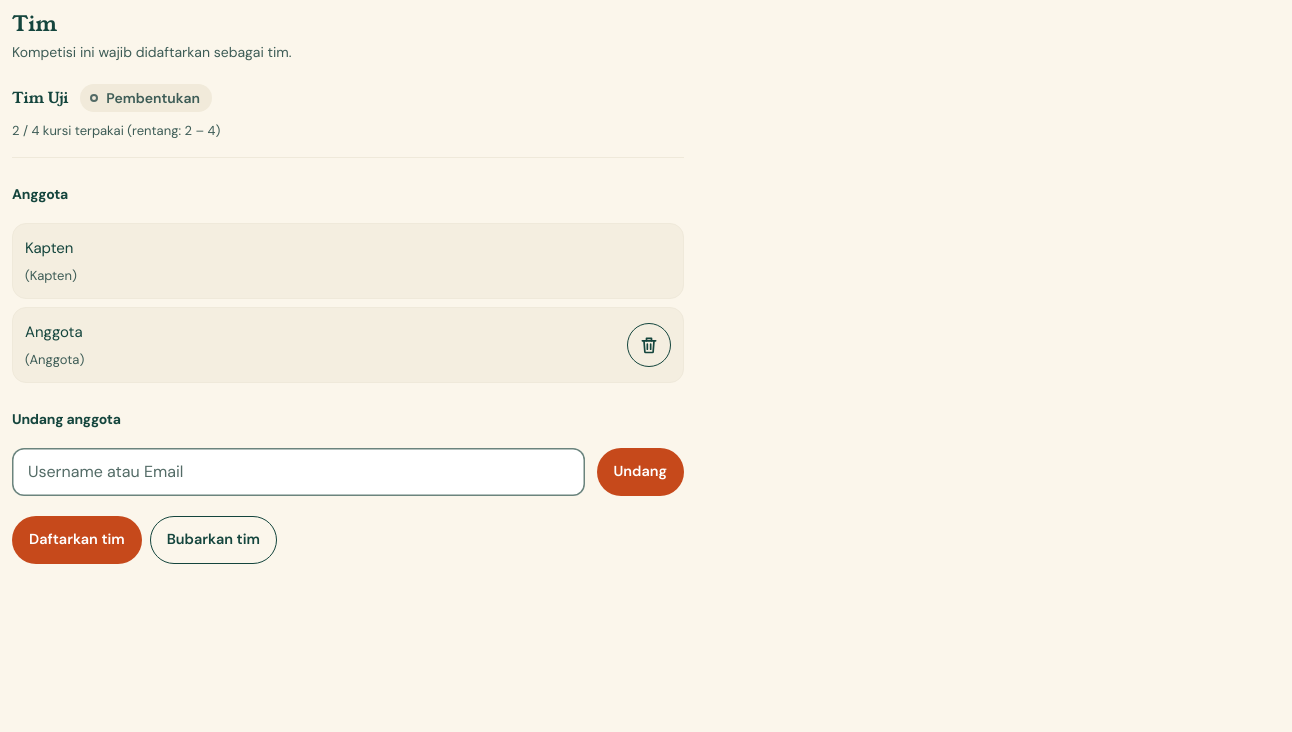
Scenario: the team section's refusals › says the organiser is suspended when the captain registers the team
Click the button "Daftarkan tim" at (77, 540), box [12,516,142,564]
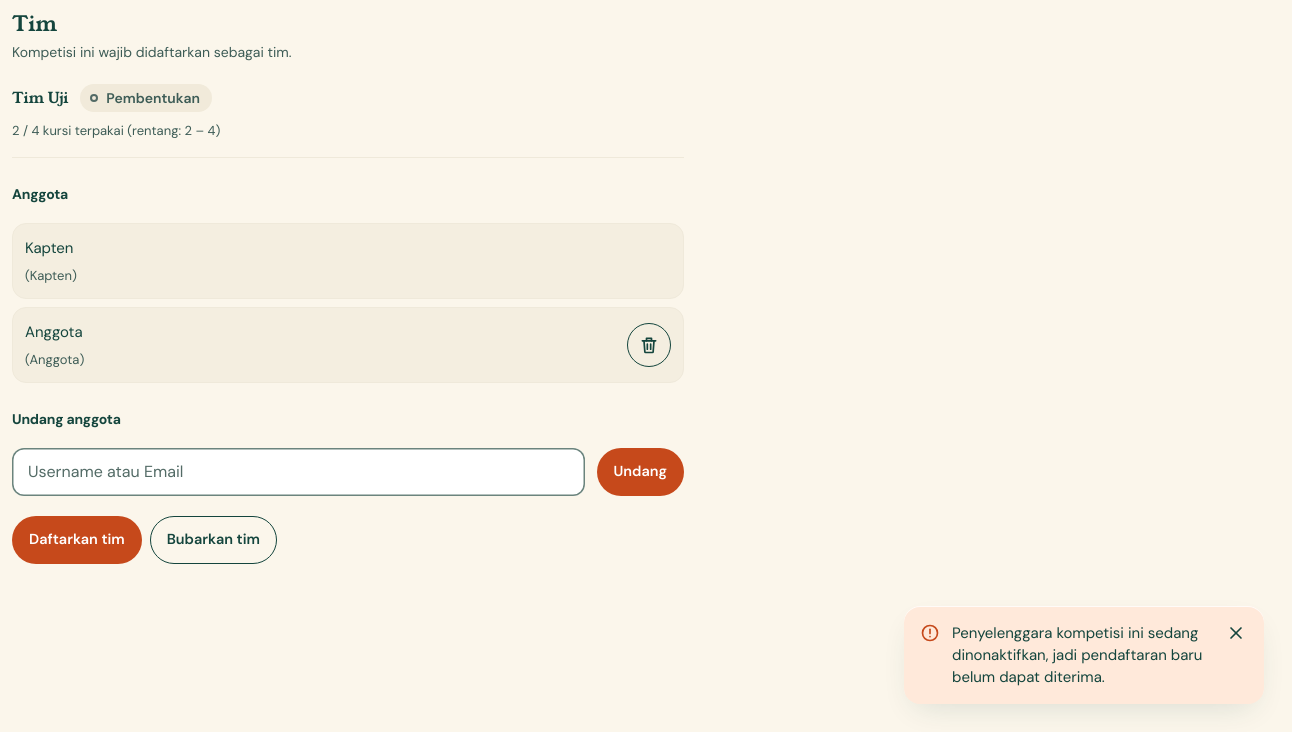
Now the text "Penyelenggara kompetisi ini sedang dinonaktifkan, jadi pendaftaran baru belum dapat diterima." is shown, box [952,623,1202,687]
